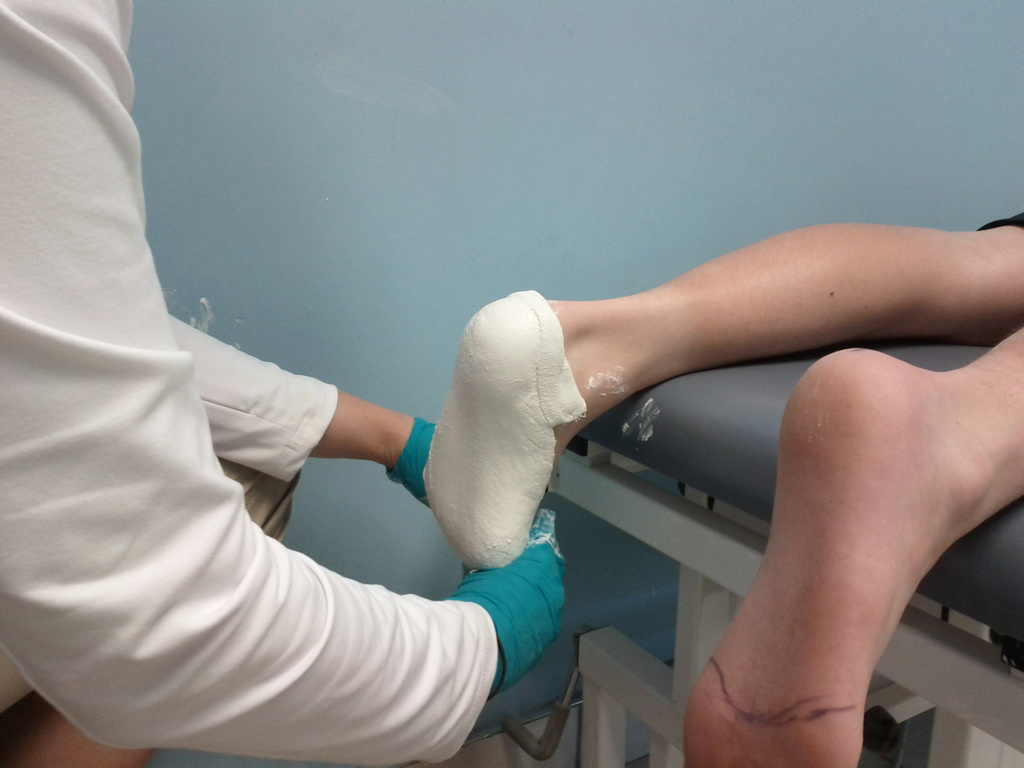Human_hand: (447, 509, 567, 691), (388, 416, 434, 508)
